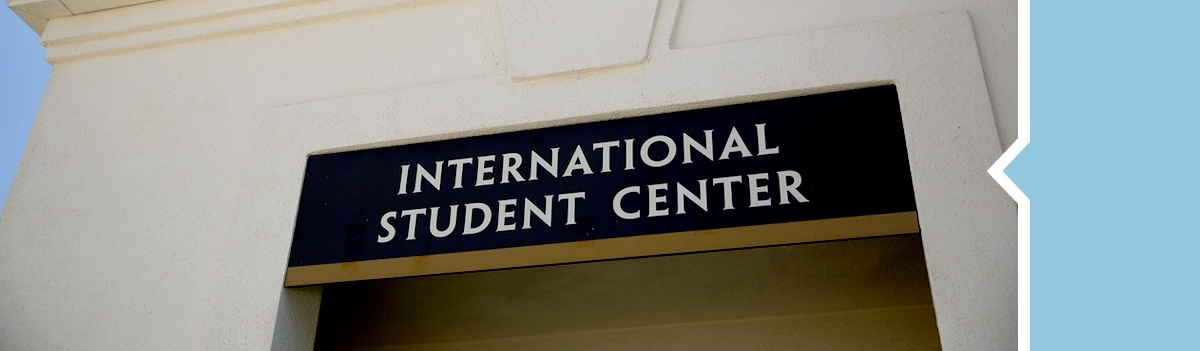text: (401, 122, 416, 197), (417, 122, 432, 197), (433, 122, 448, 197), (449, 122, 464, 197), (465, 122, 480, 197), (481, 122, 496, 197), (497, 122, 512, 197), (513, 122, 528, 197), (529, 122, 544, 197), (545, 122, 560, 197), (561, 122, 576, 197), (577, 122, 592, 197), (593, 122, 608, 197), (609, 122, 624, 197), (625, 122, 640, 197), (641, 122, 656, 197), (657, 122, 672, 197), (673, 122, 688, 197), (689, 122, 704, 197), (705, 122, 720, 197), (721, 122, 736, 197), (737, 122, 752, 197), (753, 122, 768, 197), (769, 122, 782, 197), (385, 190, 400, 245), (401, 190, 416, 245), (417, 190, 432, 245), (433, 190, 448, 245), (449, 190, 464, 245), (465, 190, 480, 245), (481, 190, 496, 245), (497, 190, 512, 245), (513, 190, 528, 245), (529, 190, 544, 245), (545, 190, 560, 245), (561, 190, 576, 245), (625, 167, 640, 222), (641, 167, 656, 222), (657, 167, 672, 222), (673, 167, 688, 222), (689, 167, 704, 222), (705, 167, 720, 222), (721, 167, 736, 222), (737, 167, 752, 222), (753, 167, 768, 222), (769, 167, 784, 222), (785, 167, 800, 222), (611, 167, 624, 222), (577, 190, 588, 245), (801, 167, 811, 222), (381, 190, 384, 245)
